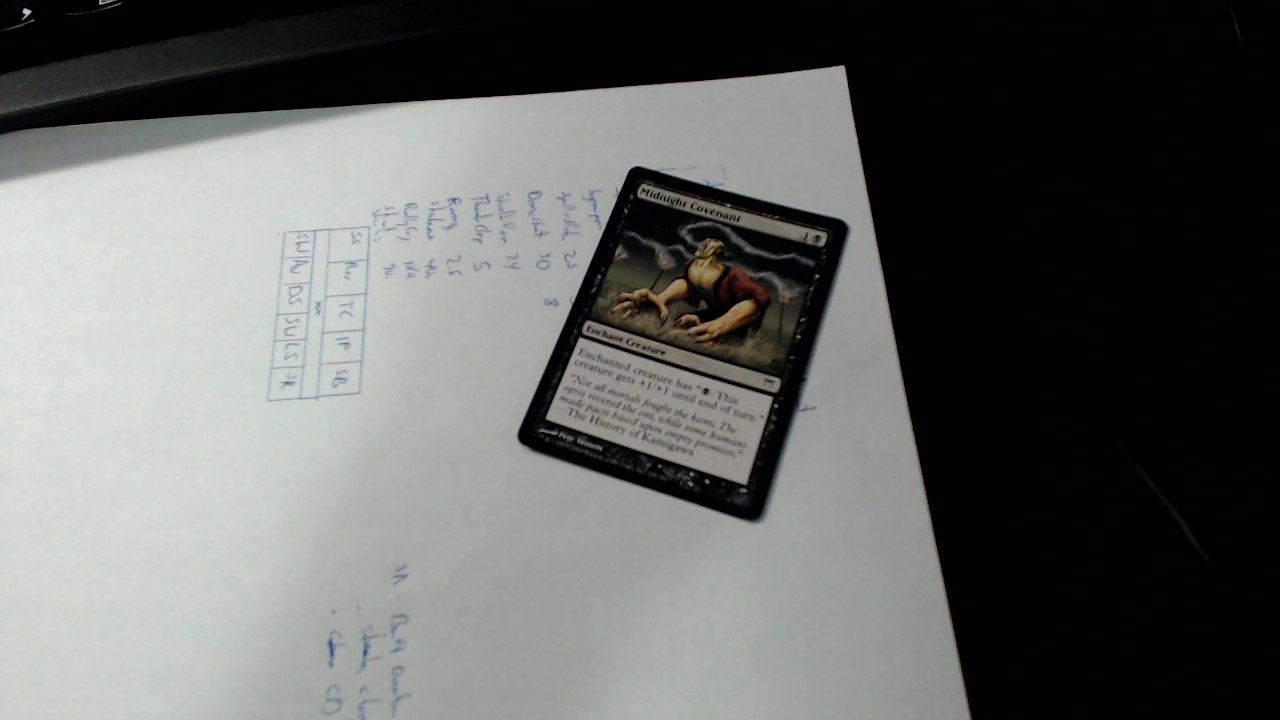MTG Card: (511, 149, 854, 533)
